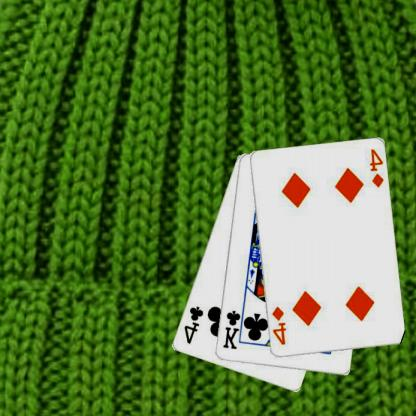4C: (183, 304, 206, 345)
4D: (270, 304, 289, 347), (368, 147, 387, 189)
KC: (222, 305, 248, 351)
